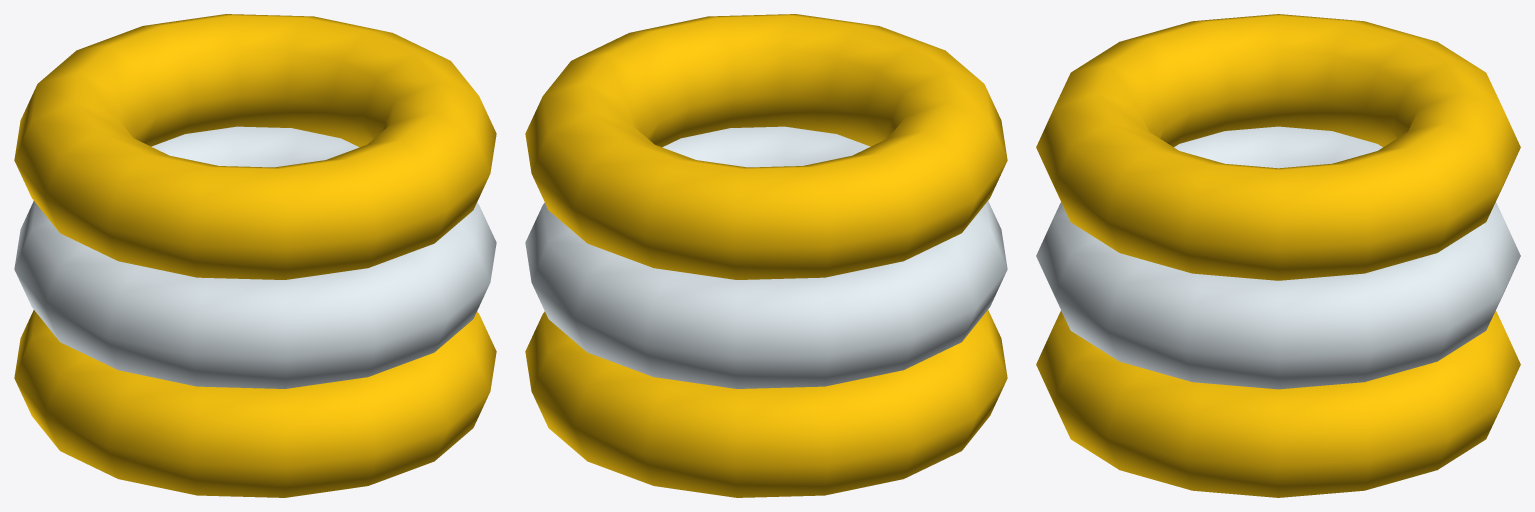
Rendered from tire_stack.dae.
3 renders of one model, left to right at view 1: azimuth 30°, elevation 25°; view 2: azimuth 150°, elevation 25°; view 3: azimuth 270°, elevation 25°, orthographic.
Visible parts, largest first — view 1: tire-stack; view 2: tire-stack; view 3: tire-stack.
Part boxes in pixels (left/top/right/bottom): tire-stack: left=14, top=14, right=496, bottom=497; tire-stack: left=525, top=14, right=1007, bottom=497; tire-stack: left=1036, top=14, right=1520, bottom=497.
Size of the model in its own units: 0.85 by 0.85 by 0.63.
